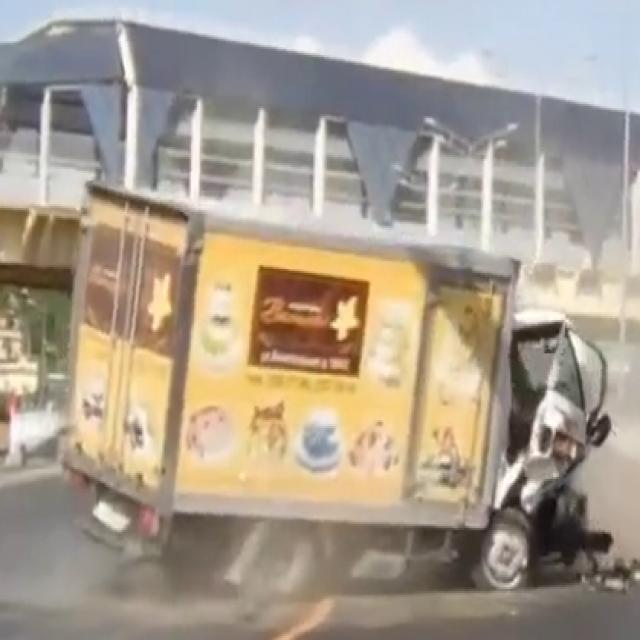accident: (70, 159, 620, 609)
